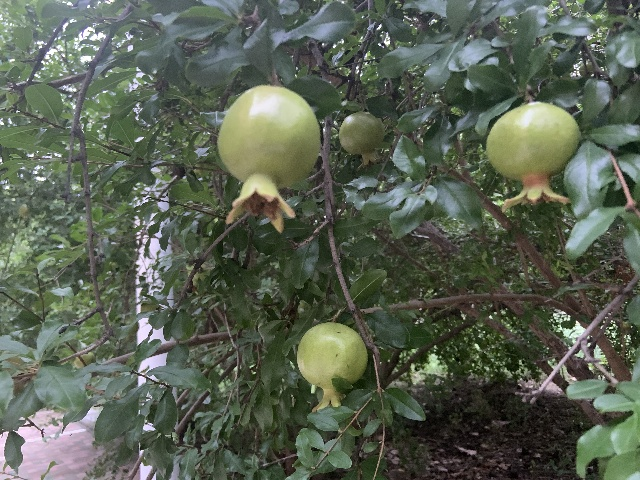mid-growth: (216, 82, 320, 233), (484, 101, 580, 209), (296, 321, 367, 412), (338, 111, 386, 168)
